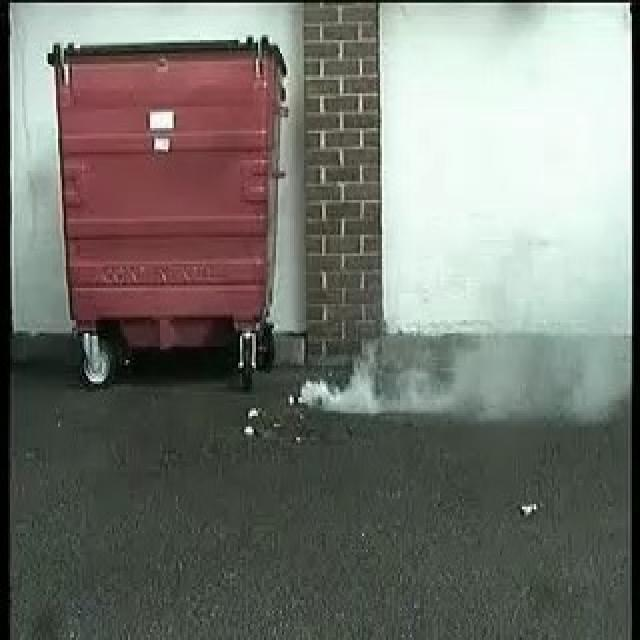smoke: (294, 326, 530, 411)
